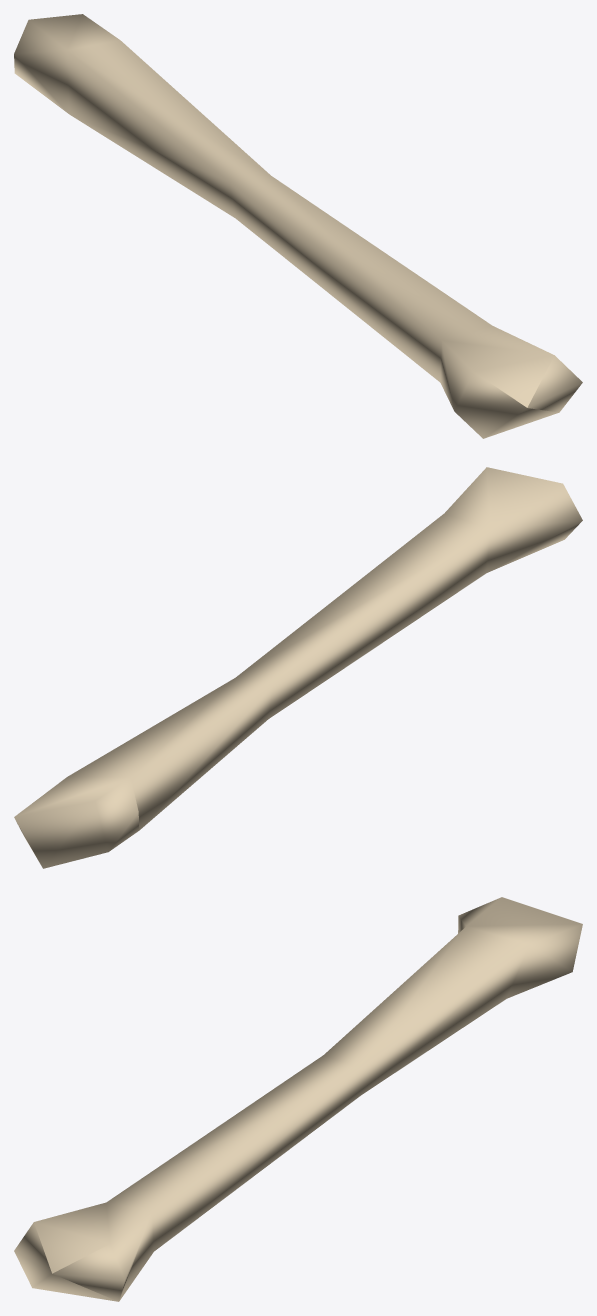
The model's file is Prop_Sm_Bone_2_A.fbx.
The picture shows the model from 3 angles, top to bottom: view 1: azimuth 30°, elevation 25°; view 2: azimuth 150°, elevation 25°; view 3: azimuth 330°, elevation 25°; orthographic projection. The views are drawn at different scales.
Visible parts, largest first — view 1: Bone_1_low:polySurface3; view 2: Bone_1_low:polySurface3; view 3: Bone_1_low:polySurface3.
Boxes of the visible parts, <box> form: Bone_1_low:polySurface3: <box>14,14,582,438</box>; Bone_1_low:polySurface3: <box>14,467,582,868</box>; Bone_1_low:polySurface3: <box>14,897,582,1301</box>.
Size of the model in its own units: 0.0957 by 0.0538 by 0.6779.
